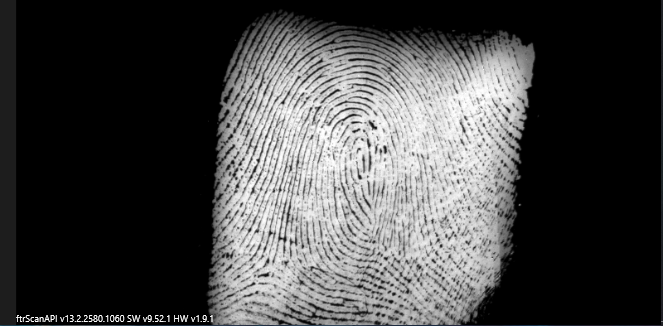nucelo: (348, 136, 371, 178)
verticilo: (255, 258, 284, 277), (363, 224, 383, 249)
